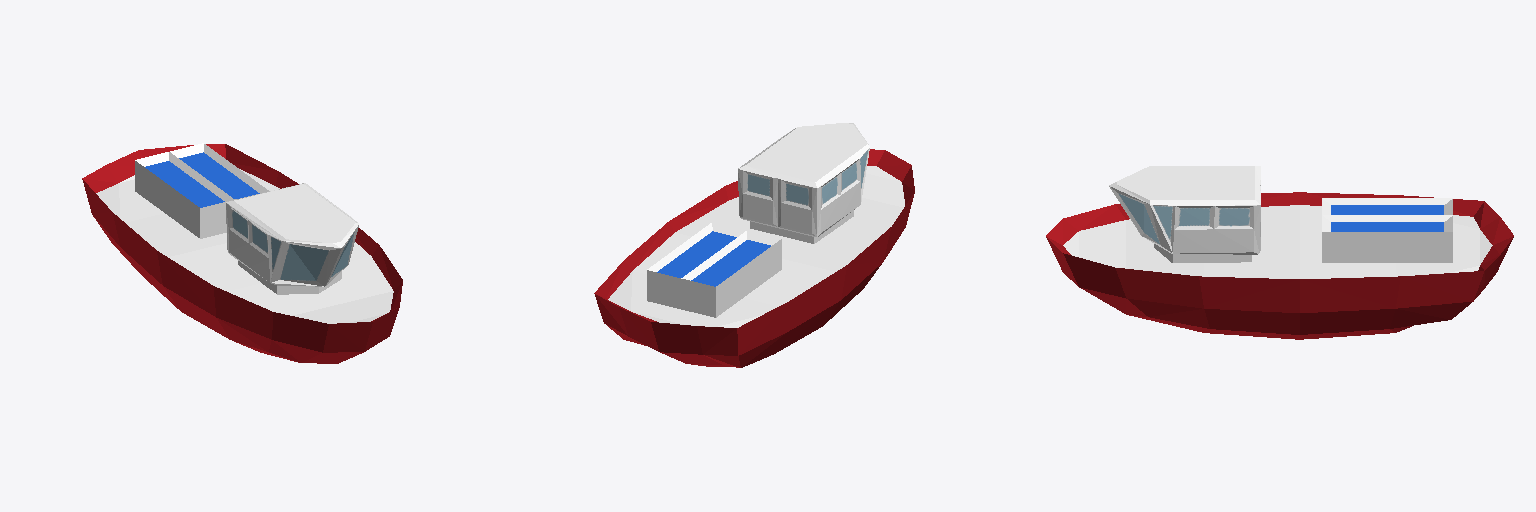
3 renders of one model, left to right at view 1: azimuth 30°, elevation 25°; view 2: azimuth 150°, elevation 25°; view 3: azimuth 270°, elevation 25°, orthographic.
Visible parts, largest first — view 1: 立方体.001; view 2: 立方体.001; view 3: 立方体.001.
Part boxes in pixels (bbox=[...]): 立方体.001: bbox=[82, 143, 402, 363]; 立方体.001: bbox=[594, 123, 914, 367]; 立方体.001: bbox=[1046, 166, 1513, 339].
Bounding box in the file's own units: 0.708 × 0.5527 × 1.61.
1 materials, 1 textured.